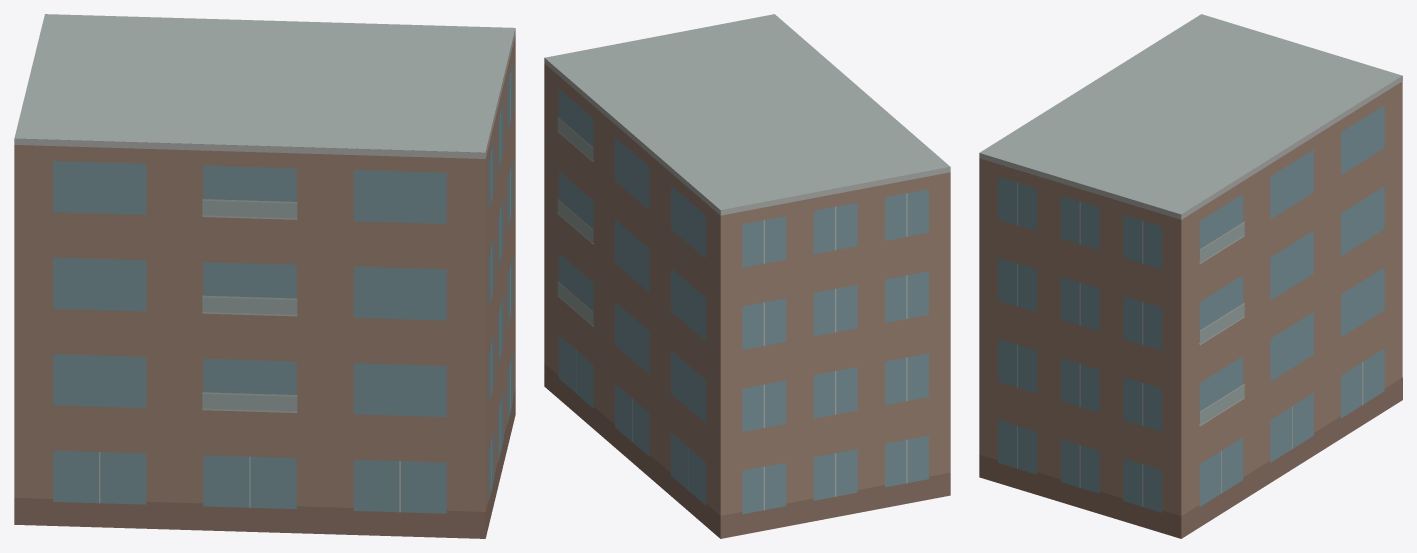
File: survey-upis-33021097.glb
The picture shows the model from 3 angles, left to right: view 1: azimuth 30°, elevation 25°; view 2: azimuth 150°, elevation 25°; view 3: azimuth 270°, elevation 25°; orthographic projection. The views are drawn at different scales.
Visible parts, largest first — view 1: survey-upis-33021097.tmp; view 2: survey-upis-33021097.tmp; view 3: survey-upis-33021097.tmp.
Part boxes in pixels (x1,y1,x2,y2): survey-upis-33021097.tmp: (14,14,515,538); survey-upis-33021097.tmp: (544,14,950,538); survey-upis-33021097.tmp: (979,14,1402,538).
Bounding box in the file's own units: 19.36 × 14.6 × 17.28.
